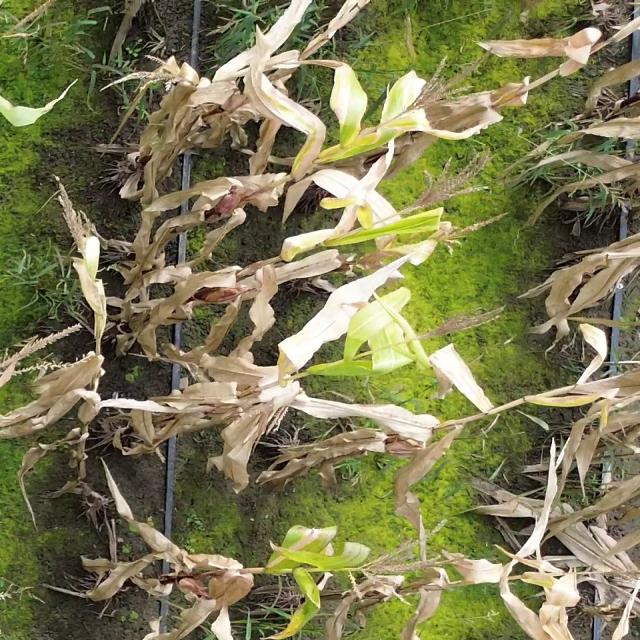northern-leaf-blight: (262, 515, 366, 639), (333, 68, 417, 177)
